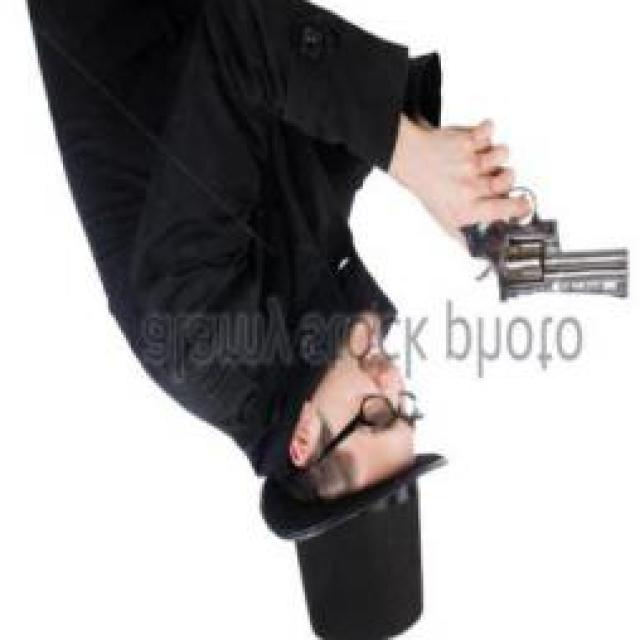pistol: (451, 188, 631, 302)
